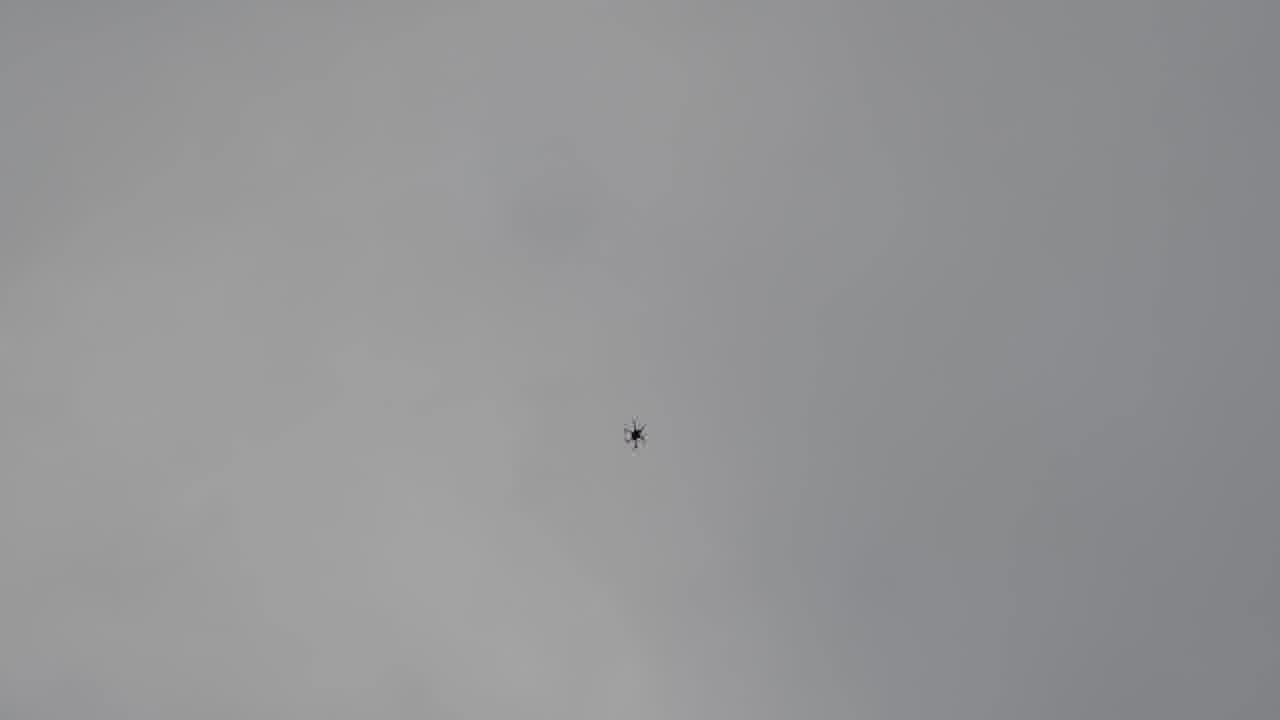drone: (614, 413, 655, 451)
